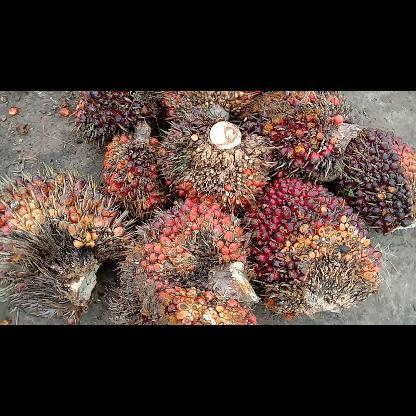TBS masak: (234, 176, 378, 314), (0, 169, 131, 314), (120, 200, 258, 324), (155, 118, 272, 204), (248, 90, 354, 182), (337, 126, 415, 230), (100, 122, 176, 216), (77, 90, 159, 142), (160, 94, 258, 122)
